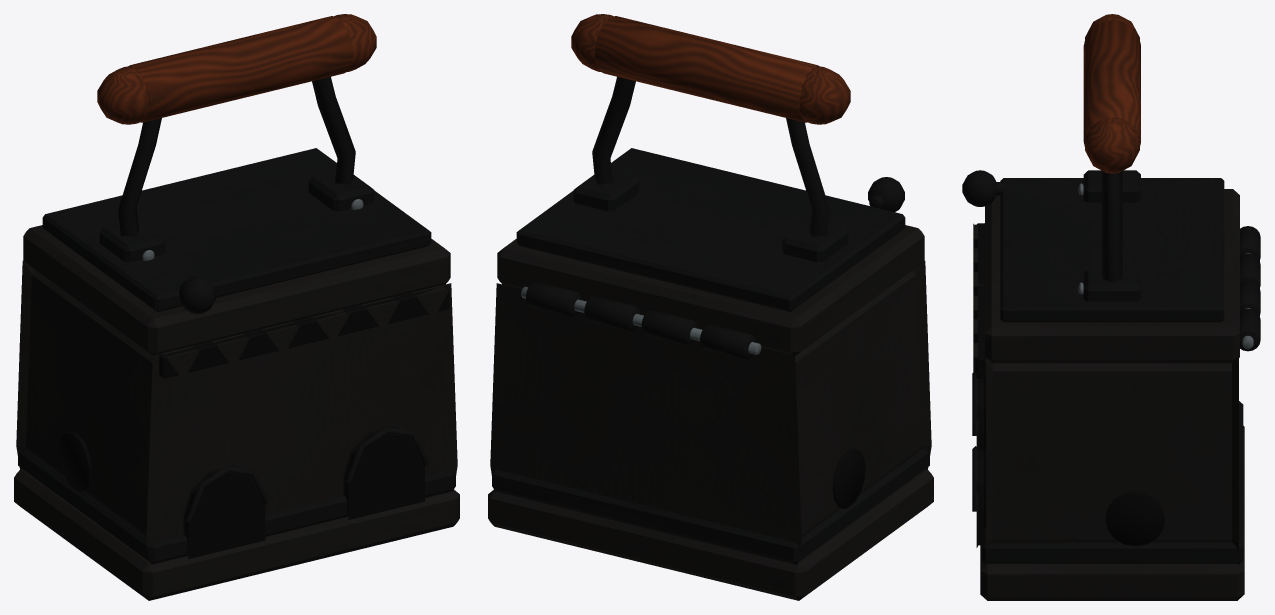
File: antique_charcoal_iron_LOD1.glb
3 renders of one model, left to right at view 1: azimuth 30°, elevation 25°; view 2: azimuth 150°, elevation 25°; view 3: azimuth 270°, elevation 25°, orthographic. The views are drawn at different scales.
Parts seen in each view (by area): view 1: Heavy upright charcoal body, Raised lid frame, Shallow hinged lid, Closed flat sole plate, Turned wooden handle core, Lower cast rim, Deep front arched vent, Deep front arched vent.001, Dark lid ventilation seam, Turned handle contour, S-curved handle support, S-curved handle support.001 (+13 smaller); view 2: Heavy upright charcoal body, Raised lid frame, Shallow hinged lid, Closed flat sole plate, Turned wooden handle core, Lower cast rim, Turned handle contour, S-curved handle support, S-curved handle support.001, Handle support foot.001, Handle support foot, Inferred side vent recess -1 (+7 smaller); view 3: Heavy upright charcoal body, Raised lid frame, Shallow hinged lid, Closed flat sole plate, Lower cast rim, Turned wooden handle core, Inferred side vent recess 1, Turned handle contour.003, S-curved handle support.001, Handle support foot.001, Handle support foot, Dark lid ventilation seam (+9 smaller).
Part boxes in pixels (x1,y1,x2,y2): Heavy upright charcoal body: [16, 261, 457, 565]; Raised lid frame: [42, 148, 431, 312]; Shallow hinged lid: [23, 225, 450, 355]; Closed flat sole plate: [14, 469, 459, 600]; Turned wooden handle core: [128, 16, 353, 122]; Lower cast rim: [18, 449, 455, 563]; Deep front arched vent: [183, 465, 265, 558]; Deep front arched vent.001: [343, 426, 424, 519]; Dark lid ventilation seam: [159, 285, 449, 378]; Turned handle contour: [97, 66, 148, 124]; S-curved handle support: [118, 118, 161, 236]; S-curved handle support.001: [312, 76, 355, 184]; Heavy upright charcoal body: [490, 261, 931, 565]; Raised lid frame: [516, 148, 905, 312]; Shallow hinged lid: [497, 225, 924, 355]; Closed flat sole plate: [488, 469, 933, 600]; Turned wooden handle core: [594, 16, 819, 122]; Lower cast rim: [492, 449, 929, 563]; Turned handle contour: [799, 66, 850, 124]; S-curved handle support: [786, 118, 829, 236]; S-curved handle support.001: [592, 76, 635, 184]; Handle support foot.001: [573, 171, 639, 211]; Handle support foot: [782, 221, 848, 262]; Inferred side vent recess -1: [832, 448, 865, 508]; Heavy upright charcoal body: [986, 358, 1238, 565]; Raised lid frame: [1000, 178, 1224, 322]; Shallow hinged lid: [985, 189, 1239, 363]; Closed flat sole plate: [980, 426, 1244, 600]; Lower cast rim: [981, 401, 1243, 563]; Turned wooden handle core: [1083, 20, 1140, 146]; Inferred side vent recess 1: [1105, 491, 1165, 545]; Turned handle contour.003: [1085, 117, 1139, 173]; S-curved handle support.001: [1102, 171, 1122, 282]; Handle support foot.001: [1083, 269, 1140, 301]; Handle support foot: [1083, 170, 1140, 202]; Dark lid ventilation seam: [976, 223, 985, 378].
Size of the model in its own units: 0.31 by 0.4425 by 0.2596.
Materials: 6 (6 with a texture image).
